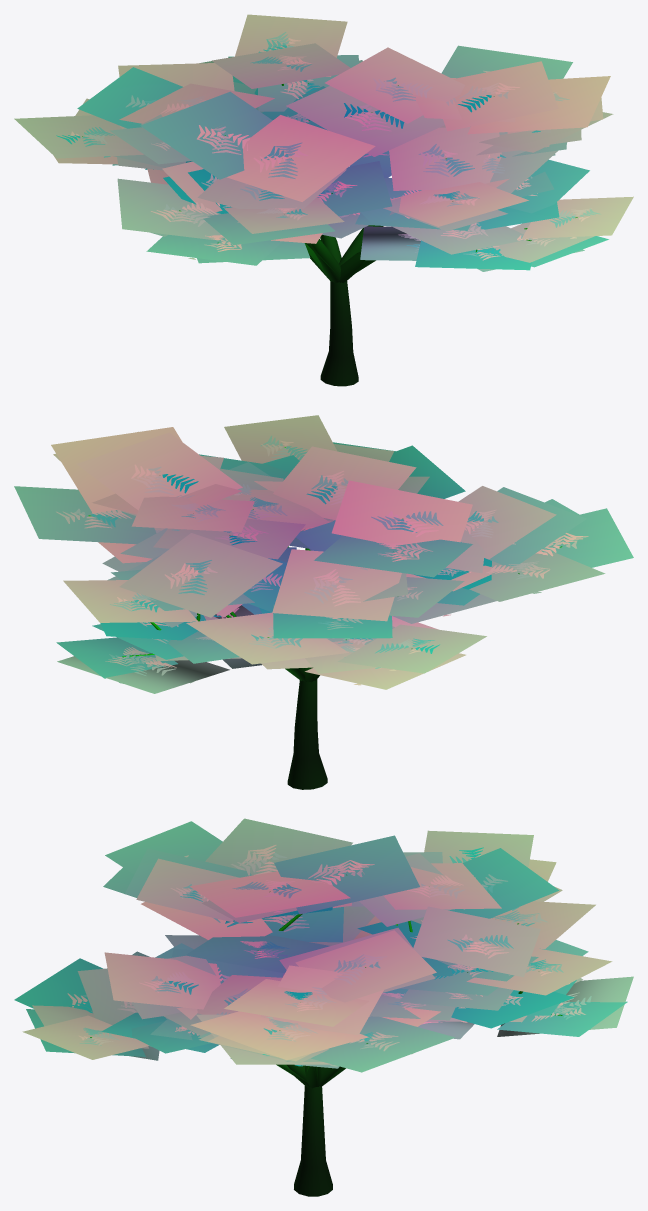
The model's file is flame_3.glb.
The picture shows the model from 3 angles, top to bottom: view 1: azimuth 30°, elevation 25°; view 2: azimuth 150°, elevation 25°; view 3: azimuth 270°, elevation 25°; orthographic projection. The views are drawn at different scales.
Visible parts, largest first — view 1: mid, near; view 2: mid, near; view 3: mid, near.
Part boxes in pixels (x1=…): mid: x1=14, y1=14, x2=633, y2=282; near: x1=56, y1=32, x2=600, y2=386; mid: x1=14, y1=415, x2=633, y2=693; near: x1=56, y1=435, x2=588, y2=789; mid: x1=14, y1=818, x2=633, y2=1086; near: x1=67, y1=845, x2=591, y2=1196.
Bounding box in the file's own units: 12.58 × 6.22 × 12.84.
